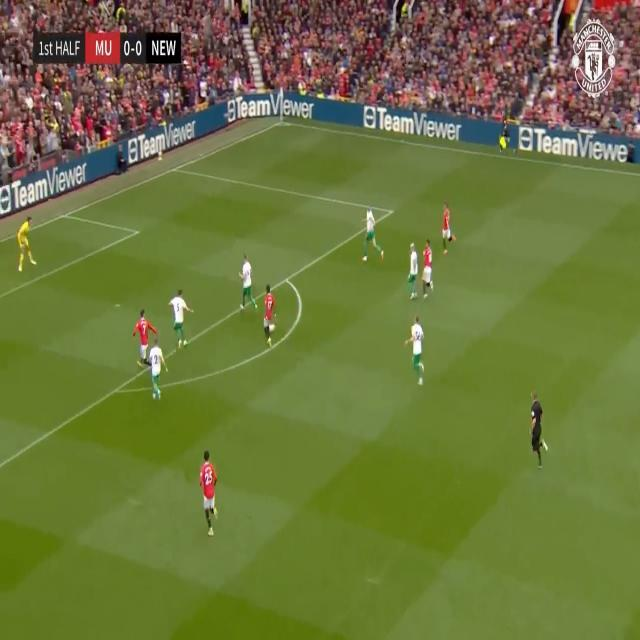TeamViewer: (0, 160, 89, 216), (519, 124, 634, 164), (365, 104, 461, 144), (128, 118, 197, 168), (227, 96, 314, 122)
